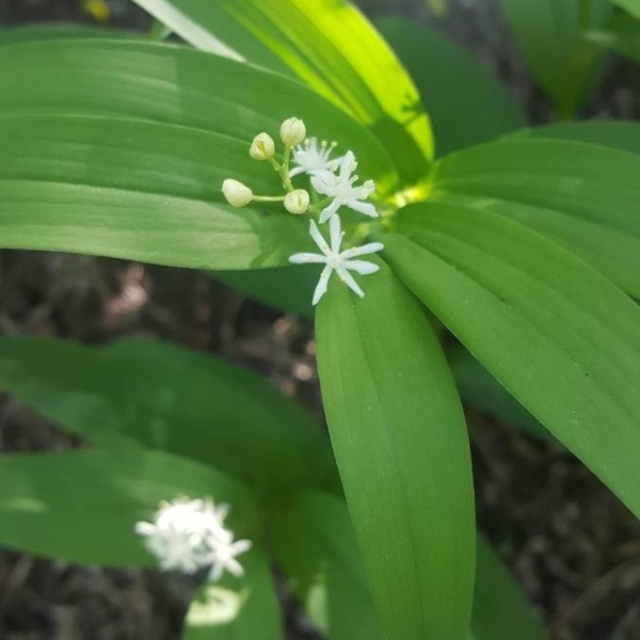obstacle: (74, 67, 603, 590)
